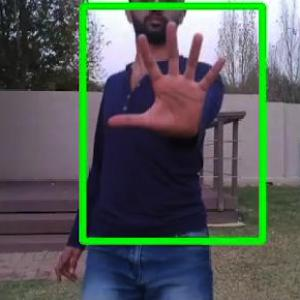follow_hand: (106, 16, 231, 142)
